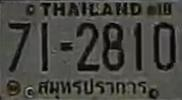0: (152, 20, 174, 70)
1: (133, 21, 141, 70), (41, 22, 47, 70)
2: (76, 22, 98, 70)
7: (8, 22, 30, 71)
8: (102, 22, 123, 70)
SPK: (33, 77, 152, 100)
